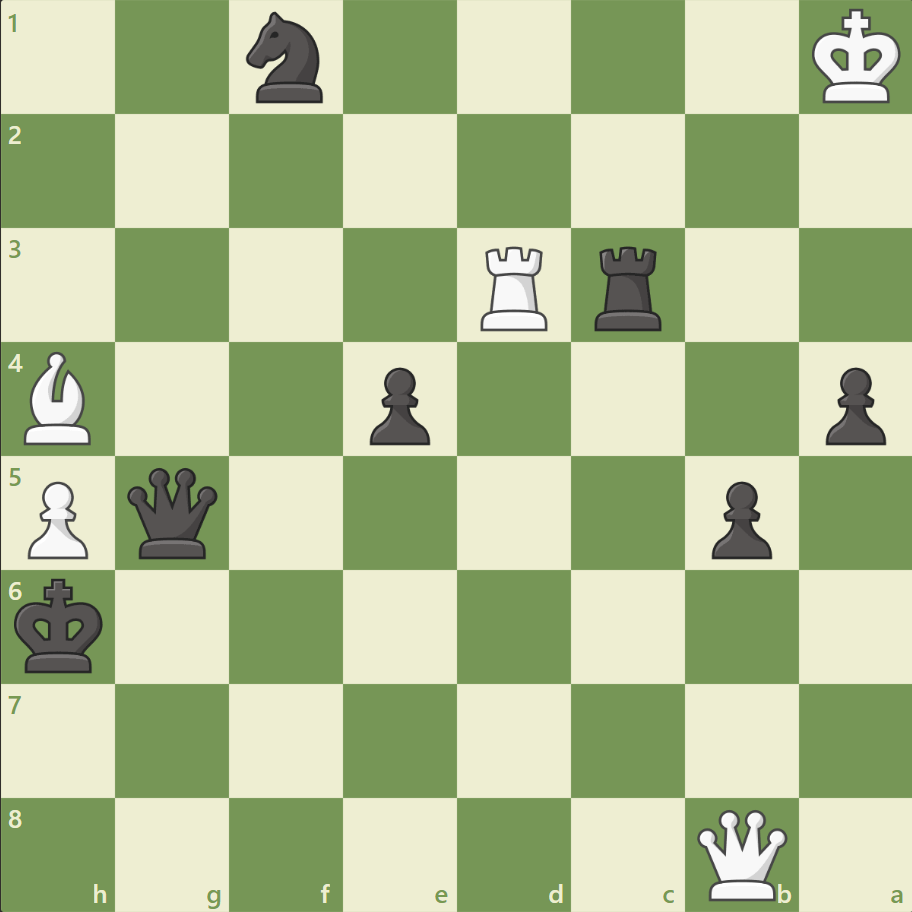B: (17, 347, 101, 449)
K: (806, 4, 906, 112)
P: (20, 473, 95, 564)
Q: (691, 804, 790, 903)
R: (473, 239, 556, 336)
k: (11, 571, 111, 679)
n: (238, 7, 335, 110)
p: (701, 473, 776, 564), (815, 359, 889, 450), (361, 359, 435, 450)
q: (124, 463, 223, 562)
r: (587, 239, 670, 336)
